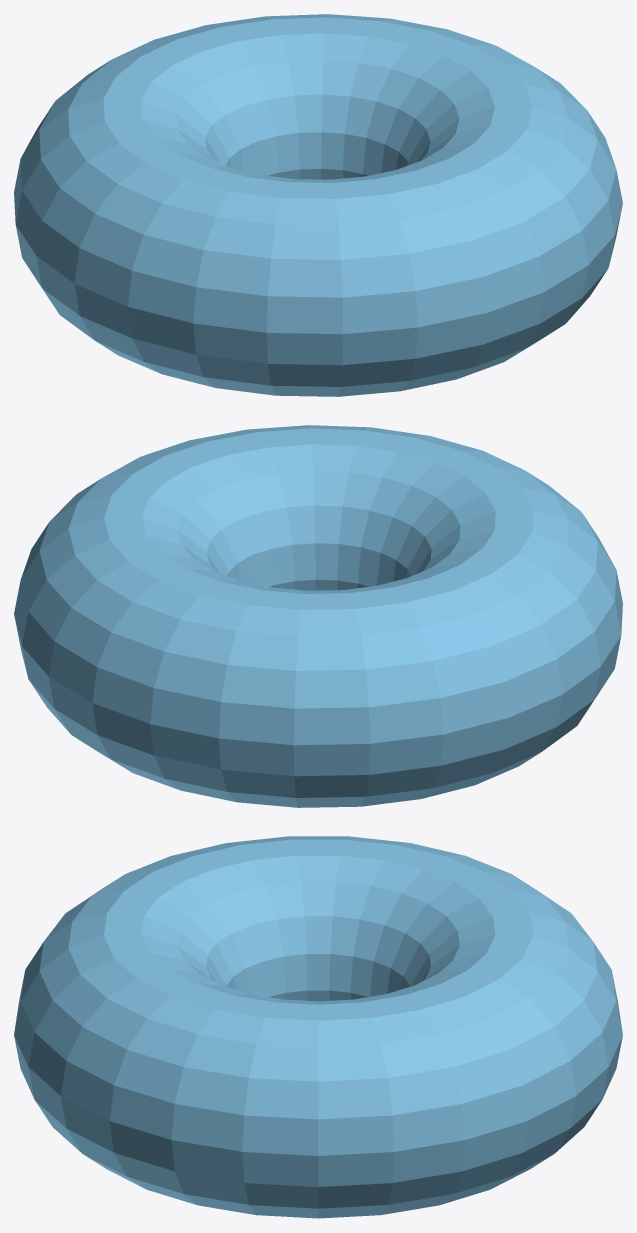
The model's file is SkyDonut.glb.
The picture shows the model from 3 angles, top to bottom: view 1: azimuth 30°, elevation 25°; view 2: azimuth 150°, elevation 25°; view 3: azimuth 270°, elevation 25°; orthographic projection.
Visible parts, largest first — view 1: Torus; view 2: Torus; view 3: Torus.
Boxes of the visible parts, <box> form: Torus: <box>14,14,622,396</box>; Torus: <box>14,425,622,807</box>; Torus: <box>14,836,622,1218</box>.
Bounding box in the file's own units: 2.79 × 0.9848 × 2.79.
